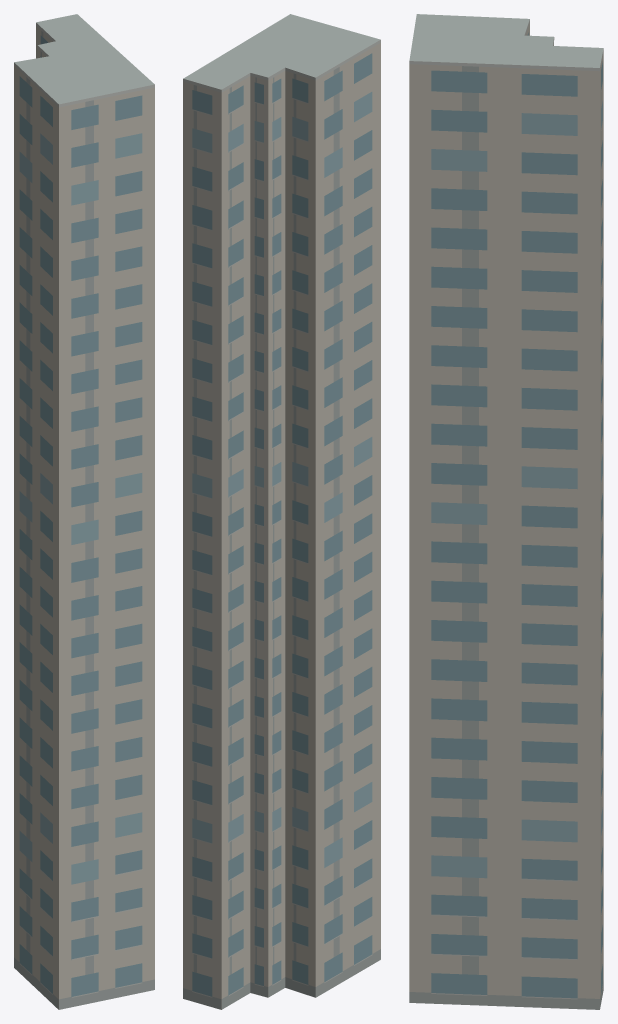
The model's file is survey-upis-32579126.glb.
3 views of the same model, side by side, from view 1: azimuth 30°, elevation 25°; view 2: azimuth 150°, elevation 25°; view 3: azimuth 270°, elevation 25° (orthographic). The views are drawn at different scales.
Parts seen in each view (by area): view 1: survey-upis-32579126.tmp; view 2: survey-upis-32579126.tmp; view 3: survey-upis-32579126.tmp.
Boxes of the visible parts, x1=… form: survey-upis-32579126.tmp: x1=14, y1=14, x2=154, y2=1009; survey-upis-32579126.tmp: x1=183, y1=14, x2=380, y2=1009; survey-upis-32579126.tmp: x1=409, y1=14, x2=603, y2=1009.
Size of the model in its own units: 9.02 by 73.2 by 13.69.
